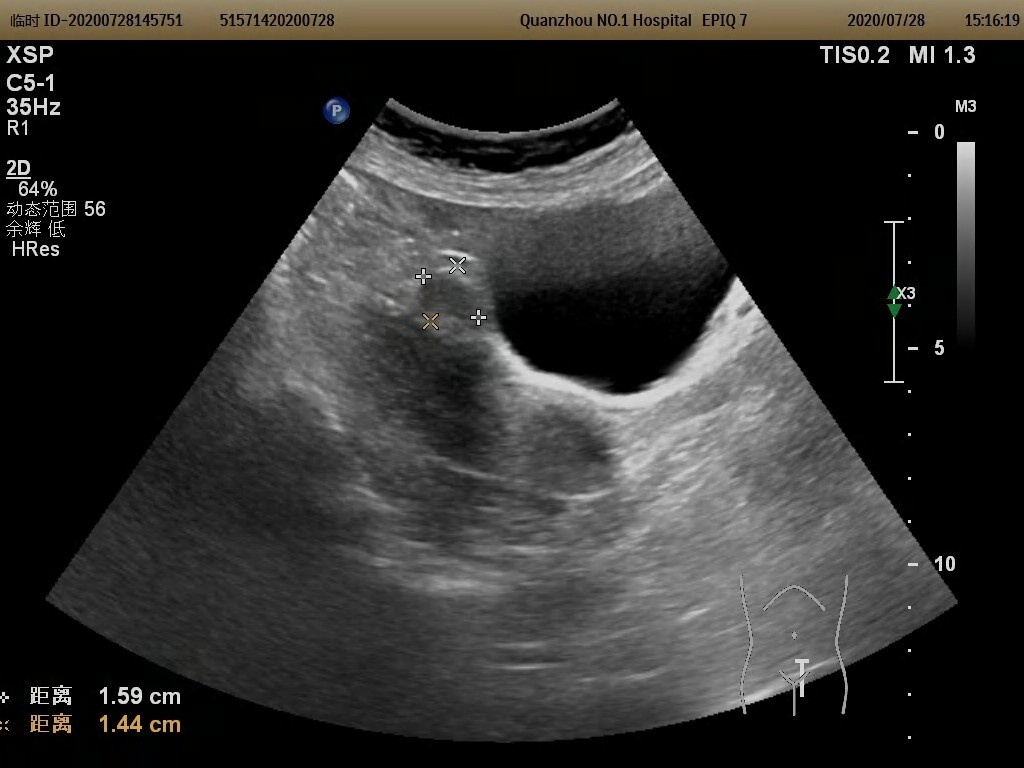肌瘤: (417, 268, 475, 321)
